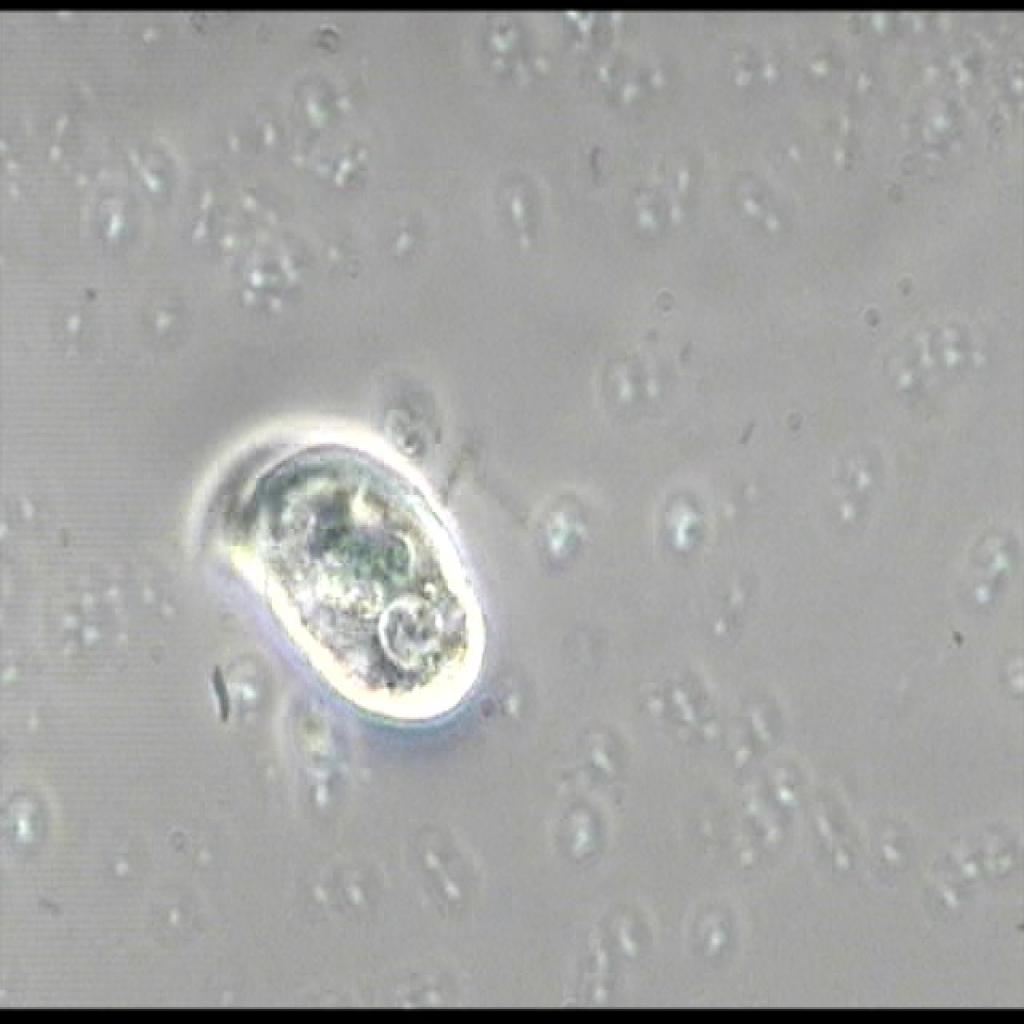Chilodonella: (186, 381, 488, 754)
